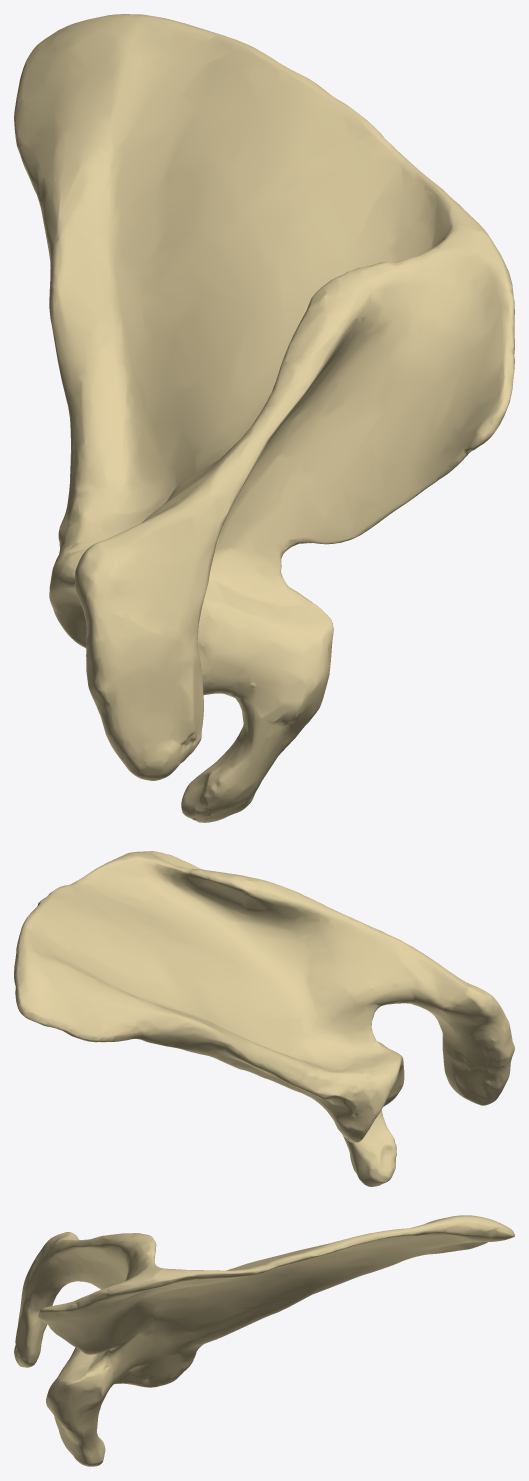
The picture shows the model from 3 angles, top to bottom: view 1: azimuth 30°, elevation 25°; view 2: azimuth 150°, elevation 25°; view 3: azimuth 270°, elevation 25°; orthographic projection. The views are drawn at different scales.
Visible parts, largest first — view 1: 右侧肩胛骨; view 2: 右侧肩胛骨; view 3: 右侧肩胛骨.
Part boxes in pixels (x1=…): 右侧肩胛骨: x1=14, y1=14, x2=514, y2=822; 右侧肩胛骨: x1=14, y1=851, x2=514, y2=1186; 右侧肩胛骨: x1=14, y1=1215, x2=514, y2=1466.
Size of the model in its own units: 0.1665 by 0.1681 by 0.241.
